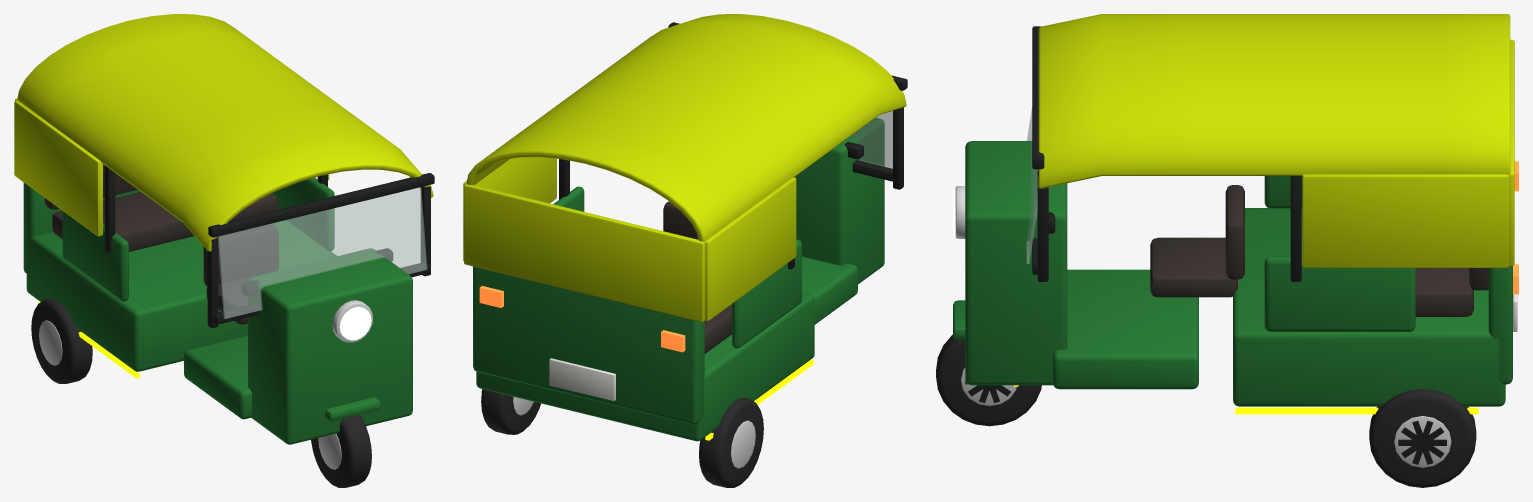
File: auto.v1.glb
The picture shows the model from 3 angles, left to right: view 1: azimuth 30°, elevation 25°; view 2: azimuth 150°, elevation 25°; view 3: azimuth 270°, elevation 25°; orthographic projection. The views are drawn at different scales.
Parts seen in each view (by area): view 1: Auto_Body, Auto_Canopy, Auto_Windshield, Auto_Seats, Auto_CanopySkirt, Auto_Frame, Wheel_RL_Tyre, Wheel_F_Tyre, Headlight, Wheel_RL_Hub, Steer_Mudguard, Wheel_F_Hub (+1 smaller); view 2: Auto_Canopy, Auto_Body, Auto_CanopySkirt, Wheel_RL_Tyre, Auto_Frame, Plate, Wheel_RR_Tyre, Auto_Seats, Auto_Windshield, Taillights, Wheel_RL_Hub, Underglow; view 3: Auto_Canopy, Auto_Body, Auto_CanopySkirt, Auto_Seats, Wheel_RR_Tyre, Auto_Frame, Wheel_F_Tyre, Wheel_RR_Spokes, Wheel_RR_Hub, Underglow, Auto_Windshield.
Boxes of the visible parts, x1,y1,x2,y2 form: Auto_Body: [23, 177, 412, 444]; Auto_Canopy: [17, 14, 433, 251]; Auto_Windshield: [218, 187, 427, 318]; Auto_Seats: [44, 164, 278, 324]; Auto_CanopySkirt: [14, 98, 329, 236]; Auto_Frame: [104, 165, 434, 328]; Wheel_RL_Tyre: [31, 299, 92, 383]; Wheel_F_Tyre: [311, 415, 371, 487]; Headlight: [339, 306, 371, 340]; Wheel_RL_Hub: [39, 320, 62, 365]; Steer_Mudguard: [325, 397, 380, 421]; Wheel_F_Hub: [318, 433, 341, 469]; Auto_Canopy: [466, 14, 906, 241]; Auto_Body: [473, 118, 884, 441]; Auto_CanopySkirt: [463, 157, 796, 321]; Wheel_RL_Tyre: [699, 398, 763, 487]; Auto_Frame: [559, 22, 907, 269]; Plate: [549, 358, 615, 400]; Wheel_RR_Tyre: [481, 389, 540, 434]; Auto_Seats: [663, 201, 731, 353]; Auto_Windshield: [849, 111, 892, 168]; Taillights: [479, 286, 685, 352]; Wheel_RL_Hub: [731, 420, 755, 468]; Underglow: [705, 359, 813, 440]; Auto_Canopy: [1038, 14, 1510, 188]; Auto_Body: [965, 141, 1512, 406]; Auto_CanopySkirt: [1302, 39, 1514, 267]; Auto_Seats: [1150, 185, 1488, 316]; Wheel_RR_Tyre: [1369, 388, 1476, 487]; Auto_Frame: [1032, 26, 1301, 281]; Wheel_F_Tyre: [936, 334, 1041, 426]; Wheel_RR_Spokes: [1398, 420, 1446, 464]; Wheel_RR_Hub: [1394, 416, 1451, 467]; Underglow: [1014, 385, 1478, 414]; Auto_Windshield: [1026, 107, 1038, 263].
Size of the model in its own units: 1.36 by 1.72 by 2.39.
